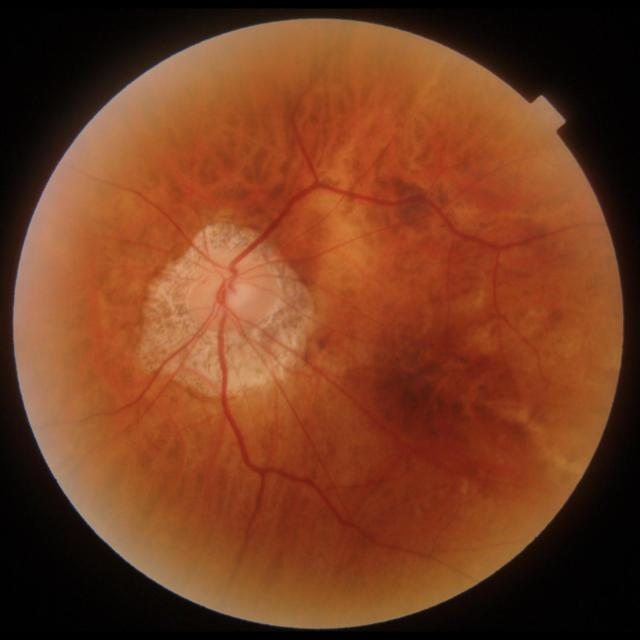OC: (218, 274, 251, 308)
OD: (182, 230, 280, 332)
